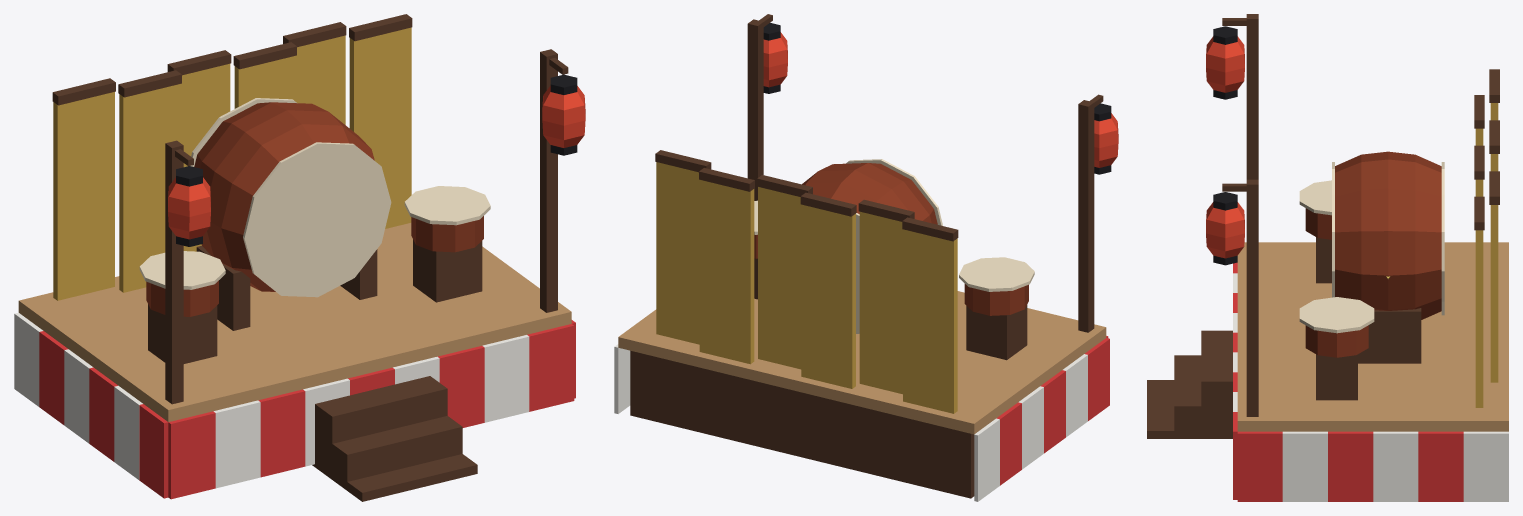
The model's file is taiko-stage.glb.
The picture shows the model from 3 angles, left to right: view 1: azimuth 30°, elevation 25°; view 2: azimuth 150°, elevation 25°; view 3: azimuth 270°, elevation 25°; orthographic projection. The views are drawn at different scales.
Parts seen in each view (by area): view 1: TaikoStage_Deck, TaikoStage_Screen, TaikoStage_Frame, TaikoStage_DrumHead, TaikoStage_KohakuR, TaikoStage_KohakuW, TaikoStage_DrumBody, TaikoStage_LanternR, TaikoStage_Caps; view 2: TaikoStage_Screen, TaikoStage_Frame, TaikoStage_Deck, TaikoStage_KohakuW, TaikoStage_DrumBody, TaikoStage_KohakuR, TaikoStage_DrumHead, TaikoStage_LanternR, TaikoStage_Caps; view 3: TaikoStage_Deck, TaikoStage_Frame, TaikoStage_DrumBody, TaikoStage_KohakuR, TaikoStage_KohakuW, TaikoStage_DrumHead, TaikoStage_Screen, TaikoStage_LanternR, TaikoStage_Caps.
Part boxes in pixels (left/top/right/bottom): TaikoStage_Deck: left=18, top=223, right=571, bottom=421; TaikoStage_Screen: left=53, top=27, right=411, bottom=300; TaikoStage_Frame: left=52, top=14, right=568, bottom=501; TaikoStage_DrumHead: left=139, top=98, right=490, bottom=297; TaikoStage_KohakuR: left=39, top=320, right=575, bottom=499; TaikoStage_KohakuW: left=14, top=312, right=529, bottom=488; TaikoStage_DrumBody: left=146, top=102, right=483, bottom=316; TaikoStage_LanternR: left=168, top=86, right=585, bottom=239; TaikoStage_Caps: left=176, top=74, right=577, bottom=246; TaikoStage_Screen: left=656, top=162, right=957, bottom=413; TaikoStage_Frame: left=630, top=14, right=1103, bottom=498; TaikoStage_Deck: left=618, top=291, right=1106, bottom=434; TaikoStage_KohakuW: left=614, top=344, right=1087, bottom=501; TaikoStage_DrumBody: left=754, top=163, right=1028, bottom=315; TaikoStage_KohakuR: left=996, top=336, right=1109, bottom=485; TaikoStage_DrumHead: left=754, top=159, right=1034, bottom=333; TaikoStage_LanternR: left=763, top=32, right=1118, bottom=167; TaikoStage_Caps: left=763, top=22, right=1111, bottom=174; TaikoStage_Deck: left=1237, top=242, right=1508, bottom=431; TaikoStage_Frame: left=1147, top=14, right=1499, bottom=438; TaikoStage_DrumBody: left=1305, top=151, right=1441, bottom=357; TaikoStage_KohakuR: left=1233, top=262, right=1463, bottom=501; TaikoStage_KohakuW: left=1233, top=273, right=1508, bottom=501; TaikoStage_DrumHead: left=1299, top=162, right=1444, bottom=333; TaikoStage_Screen: left=1475, top=103, right=1498, bottom=407; TaikoStage_LanternR: left=1206, top=36, right=1244, bottom=258; TaikoStage_Caps: left=1213, top=26, right=1237, bottom=265.
Bounding box in the file's own units: 14.5 × 11.5 × 12.
